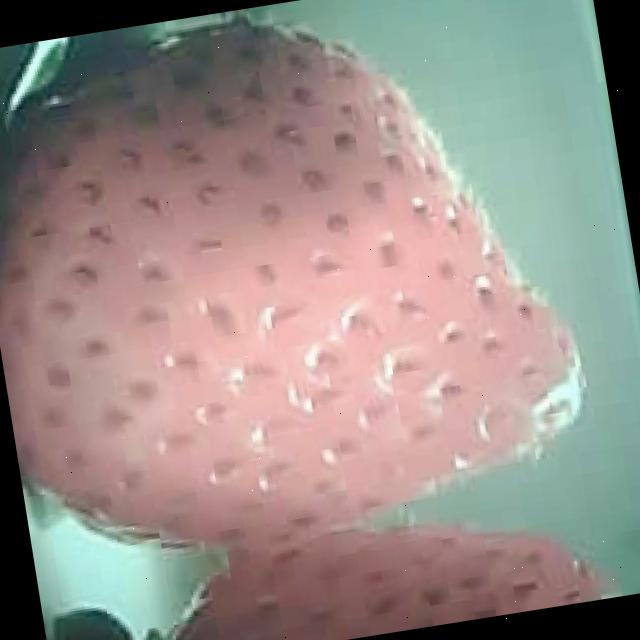strawberry: (0, 0, 601, 574)
